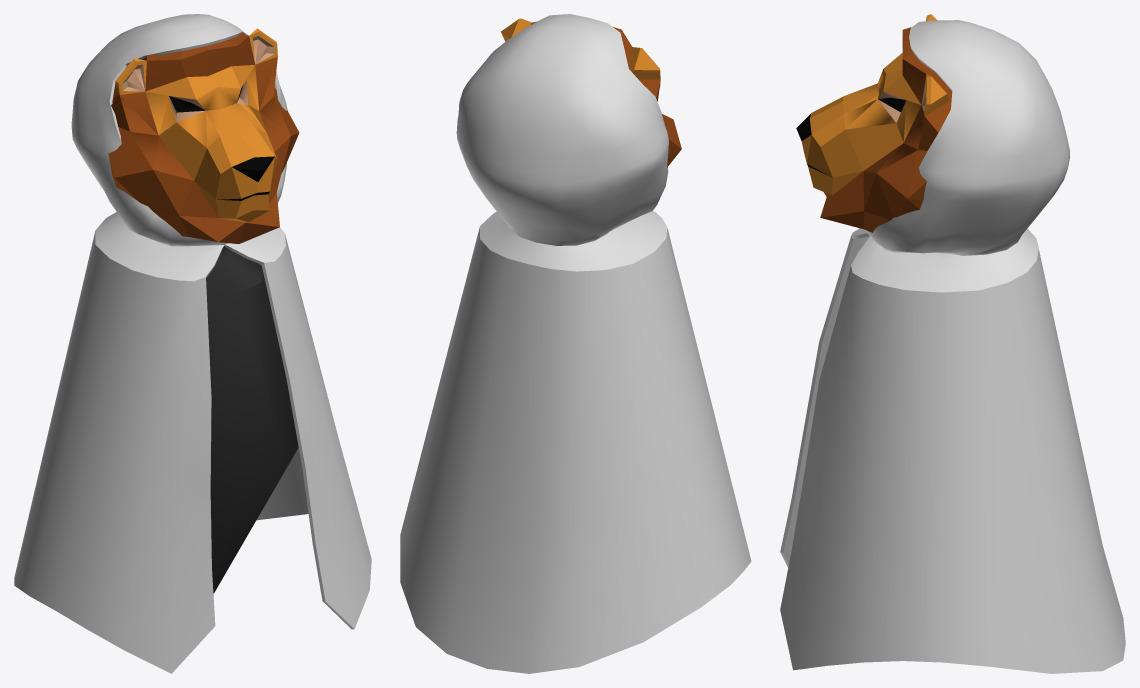
Rendered from LION updated.fbx.
3 views of the same model, side by side, from view 1: azimuth 30°, elevation 25°; view 2: azimuth 150°, elevation 25°; view 3: azimuth 270°, elevation 25° (orthographic). The views are drawn at different scales.
Parts seen in each view (by area): view 1: cape, body; view 2: cape, body; view 3: cape, body.
Part boxes in pixels (box(x1,y1,x2,y2)): cape: box(14, 14, 371, 673); body: box(108, 28, 299, 593); cape: box(400, 14, 751, 673); body: box(501, 18, 681, 167); cape: box(780, 20, 1125, 673); body: box(796, 14, 952, 232).
Size of the model in its own units: 43.7 by 77.22 by 39.43.
